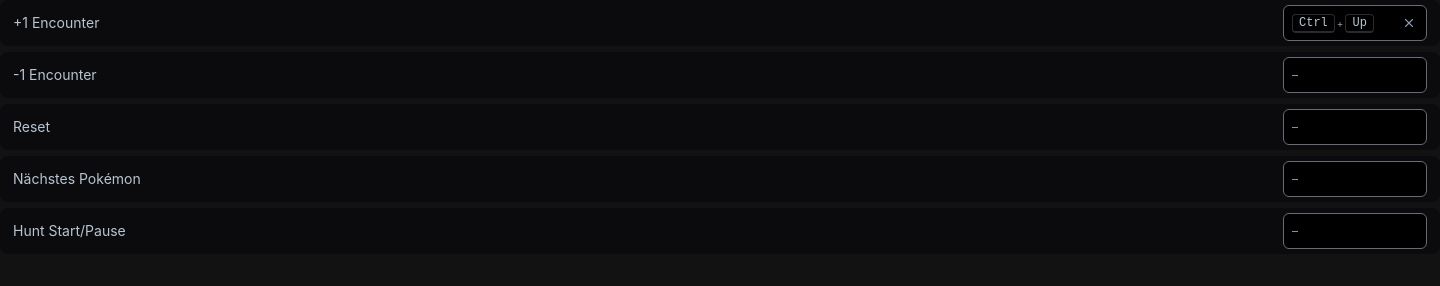
Test: HotkeySettings › reports a failed save with the generic message
Click the button named "-1 Encounter: Keine Taste zugewiesen" at {"x": 1355, "y": 75}, box [1283, 57, 1427, 93]
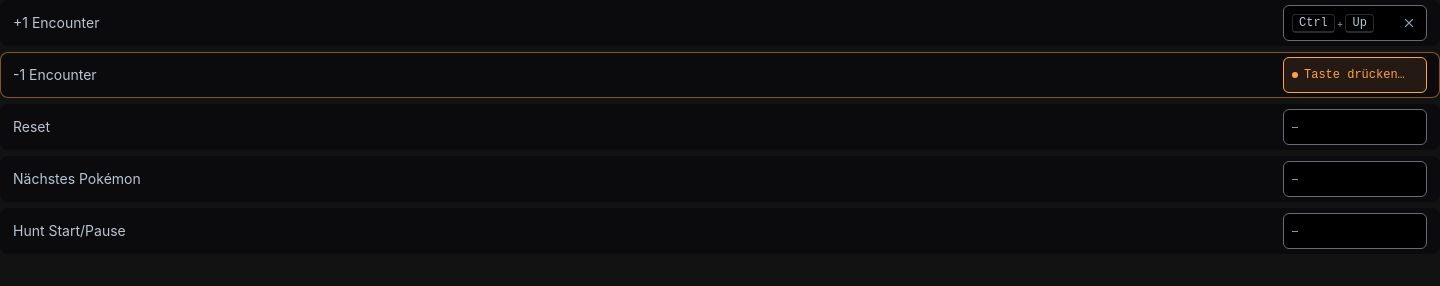
Press F5
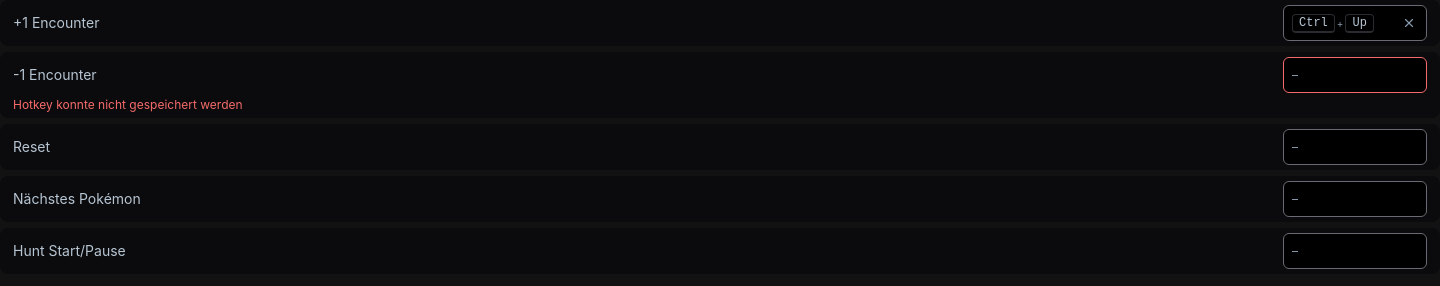
Result: the message reads "Hotkey konnte nicht gespeichert werden" at [13, 97, 243, 112]
